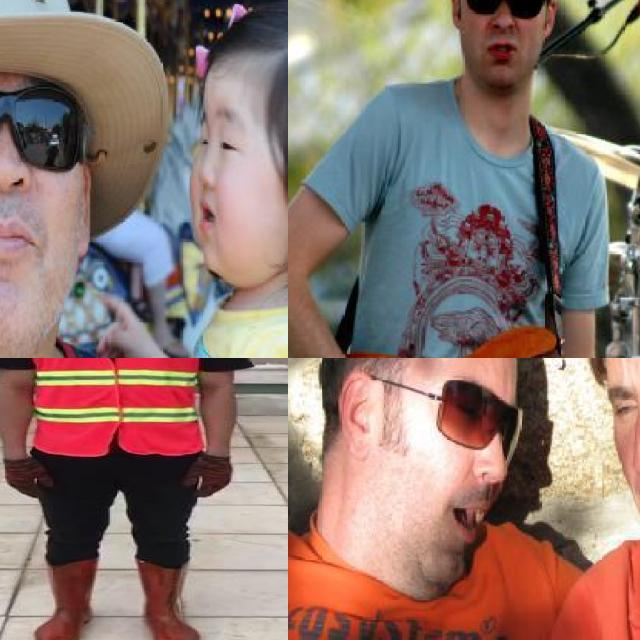boots: (133, 558, 200, 640), (36, 561, 97, 640)
face_nomask: (418, 378, 522, 548), (0, 88, 78, 276), (187, 101, 252, 253), (461, 0, 549, 72), (601, 379, 640, 524)
glasses: (347, 364, 518, 448), (0, 74, 109, 179), (458, 0, 555, 11)
hand_glove: (182, 454, 232, 499), (0, 456, 53, 498)
hand_noglove: (85, 287, 169, 358)
head_nohelmet: (0, 0, 109, 94), (204, 2, 288, 87)
person: (288, 0, 640, 358), (288, 358, 550, 640), (0, 358, 248, 640)
vest: (14, 358, 208, 454)
